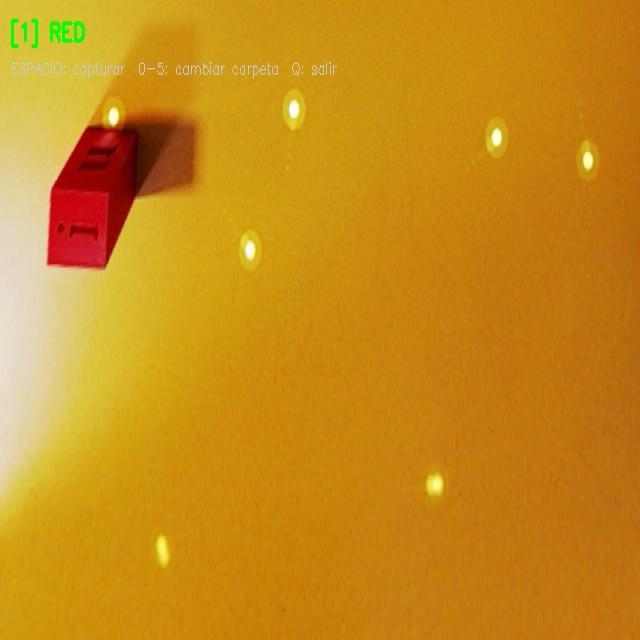red: (48, 128, 137, 268)
